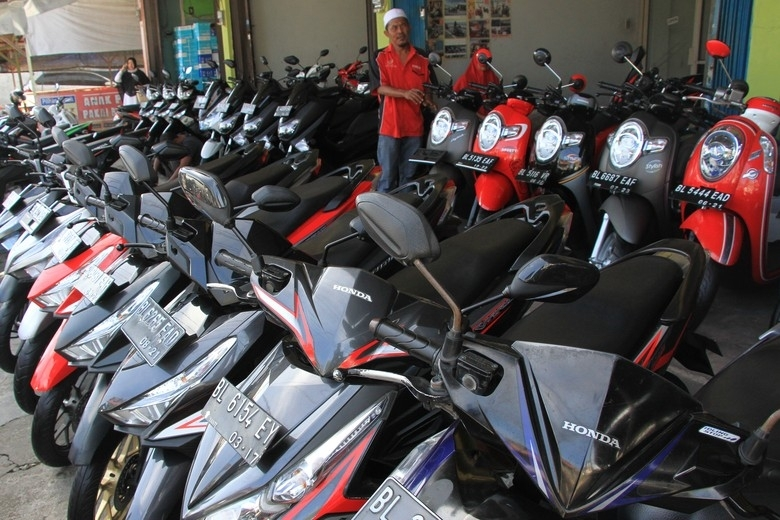plate: (202, 380, 277, 467), (123, 297, 184, 362), (672, 182, 728, 212), (585, 170, 635, 197), (459, 153, 492, 174), (516, 168, 549, 185)
